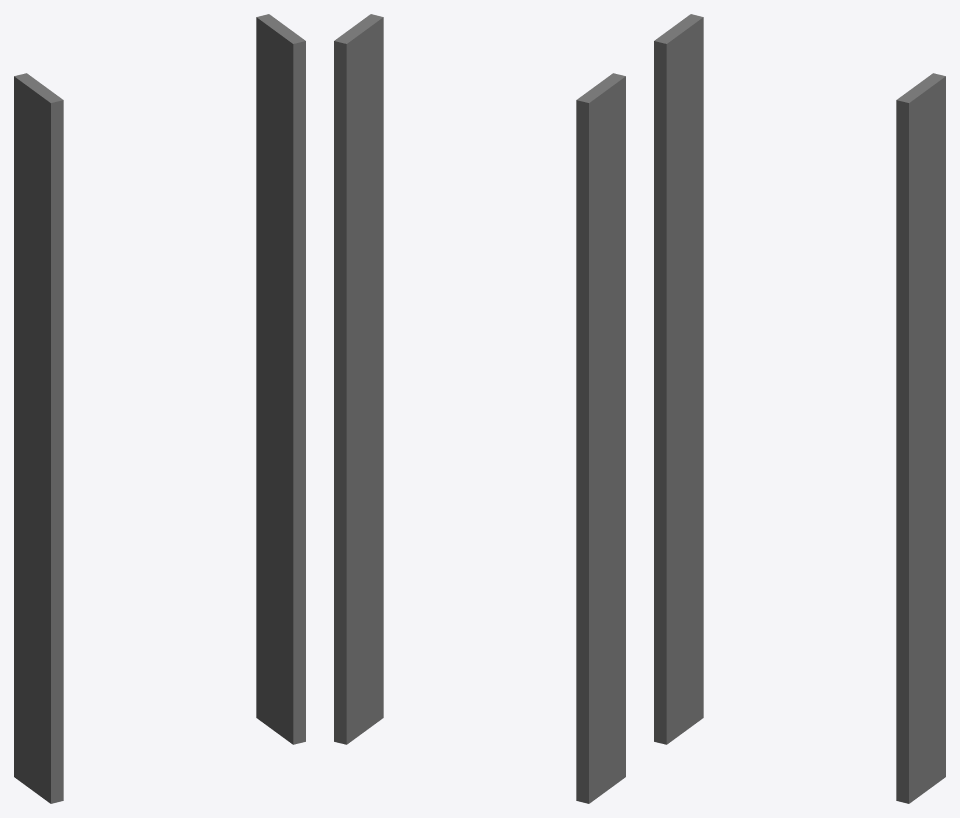
Rendered from ElectricDoorRails.fbx.
3 renders of one model, left to right at view 1: azimuth 30°, elevation 25°; view 2: azimuth 150°, elevation 25°; view 3: azimuth 330°, elevation 25°, orthographic.
Visible parts, largest first — view 1: ElectricDoorRails; view 2: ElectricDoorRails; view 3: ElectricDoorRails.
Boxes of the visible parts, x1,y1,x2,y2 form: ElectricDoorRails: (14,14,305,803); ElectricDoorRails: (334,14,625,803); ElectricDoorRails: (654,14,945,803).
Size of the model in its own units: 200 by 525 by 50.
Materials: 1 (1 with a texture image).
